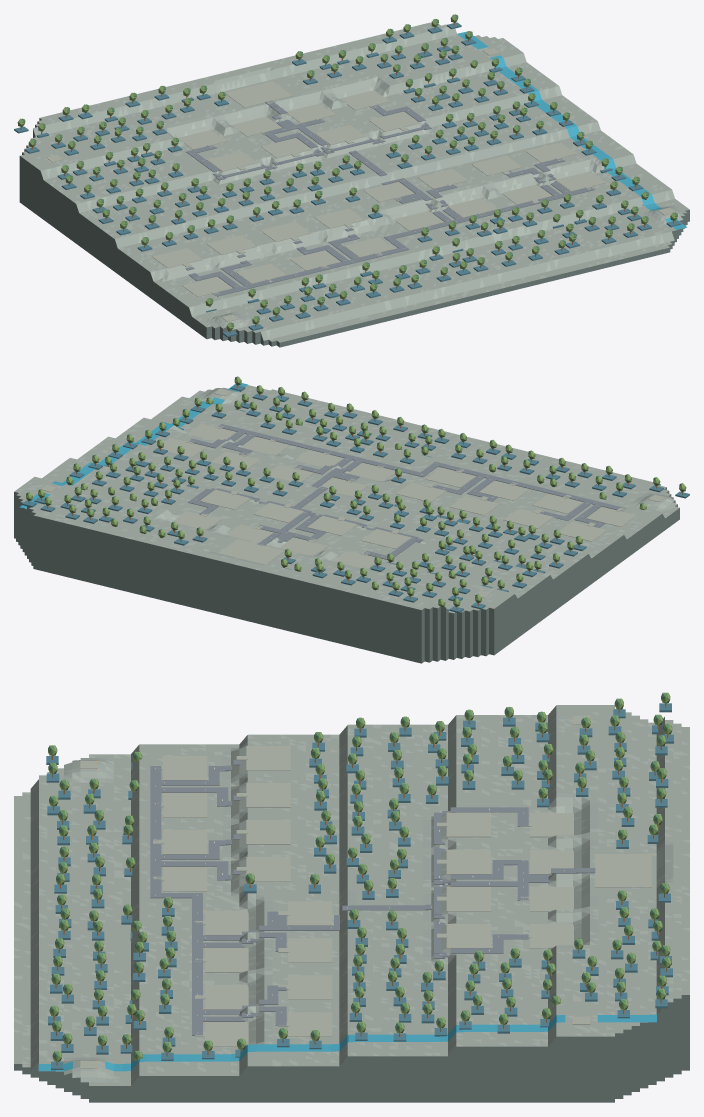
Rendered from ground.glb.
3 renders of one model, top to bottom at view 1: azimuth 30°, elevation 25°; view 2: azimuth 150°, elevation 25°; view 3: azimuth 270°, elevation 25°, orthographic. The views are drawn at different scales.
Visible parts, largest first — view 1: planet_urban__Terrain, planet_urban__Decoration, planet_urban__Roads; view 2: planet_urban__Terrain, planet_urban__Decoration, planet_urban__Roads; view 3: planet_urban__Terrain, planet_urban__Roads, planet_urban__Decoration.
Part boxes in pixels (x1=…): planet_urban__Terrain: x1=19, y1=22, x2=689, y2=347; planet_urban__Decoration: x1=14, y1=14, x2=681, y2=337; planet_urban__Roads: x1=46, y1=48, x2=674, y2=321; planet_urban__Terrain: x1=14, y1=383, x2=679, y2=663; planet_urban__Decoration: x1=22, y1=376, x2=689, y2=612; planet_urban__Roads: x1=41, y1=388, x2=665, y2=598; planet_urban__Terrain: x1=14, y1=705, x2=689, y2=1102; planet_urban__Roads: x1=80, y1=717, x2=651, y2=1068; planet_urban__Decoration: x1=46, y1=692, x2=673, y2=1070.
Size of the model in its own units: 188 by 24.31 by 162.
